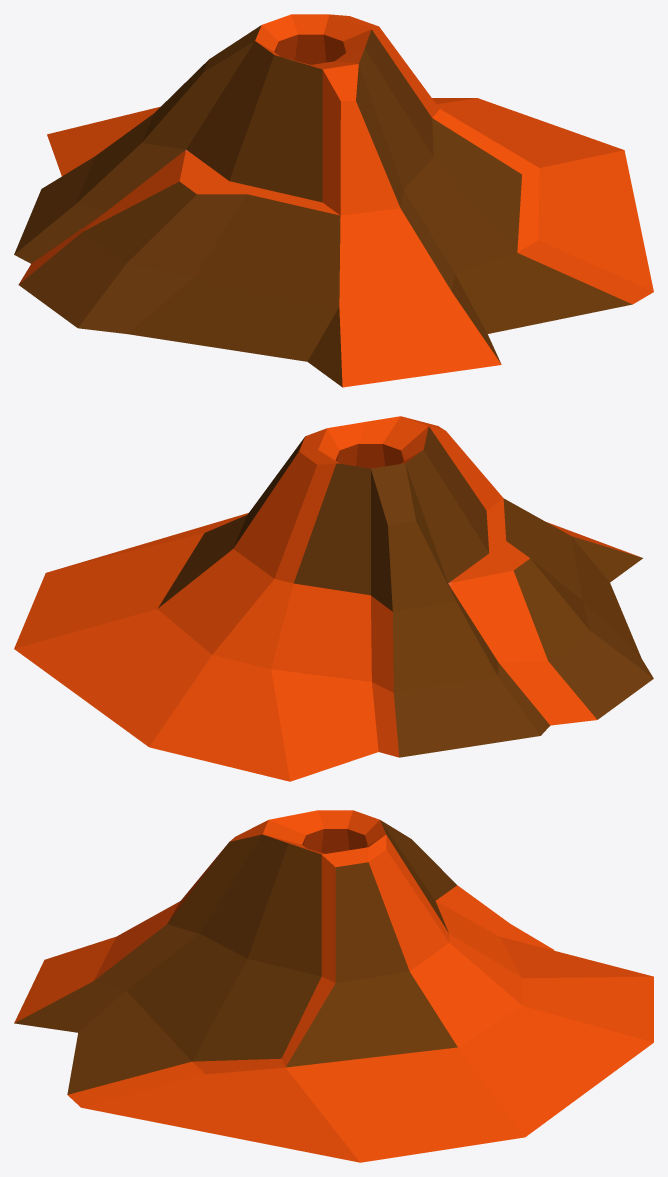
Rendered from volcano.fbx.
The picture shows the model from 3 angles, top to bottom: view 1: azimuth 30°, elevation 25°; view 2: azimuth 150°, elevation 25°; view 3: azimuth 270°, elevation 25°; orthographic projection. The views are drawn at different scales.
Visible parts, largest first — view 1: pCone1; view 2: pCone1; view 3: pCone1.
Boxes of the visible parts, x1,y1,x2,y2 form: pCone1: (14,14,653,387); pCone1: (14,416,653,781); pCone1: (14,810,653,1162).
Size of the model in its own units: 4.88 by 1.6 by 4.99.
1 material, 1 textured.
